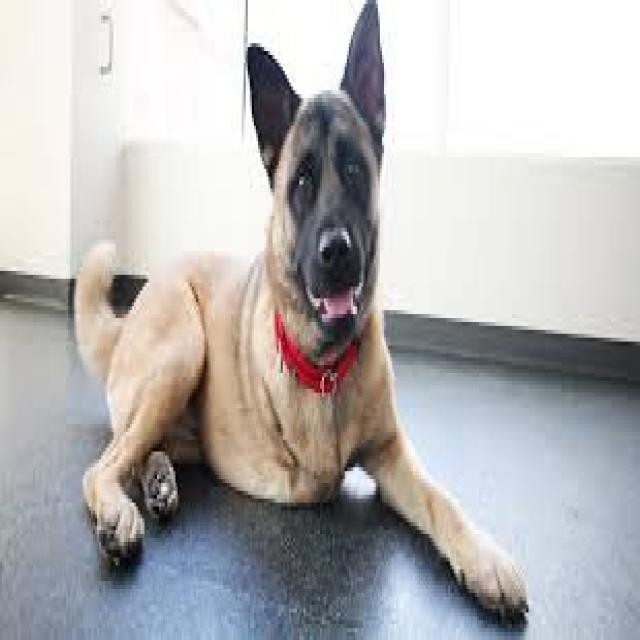dog: (221, 125, 413, 437)
